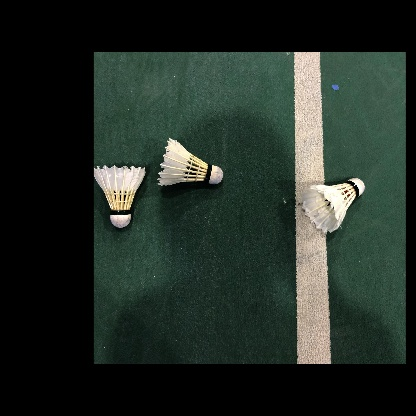ball_single: (301, 178, 365, 233), (94, 165, 146, 228), (157, 138, 223, 186)
